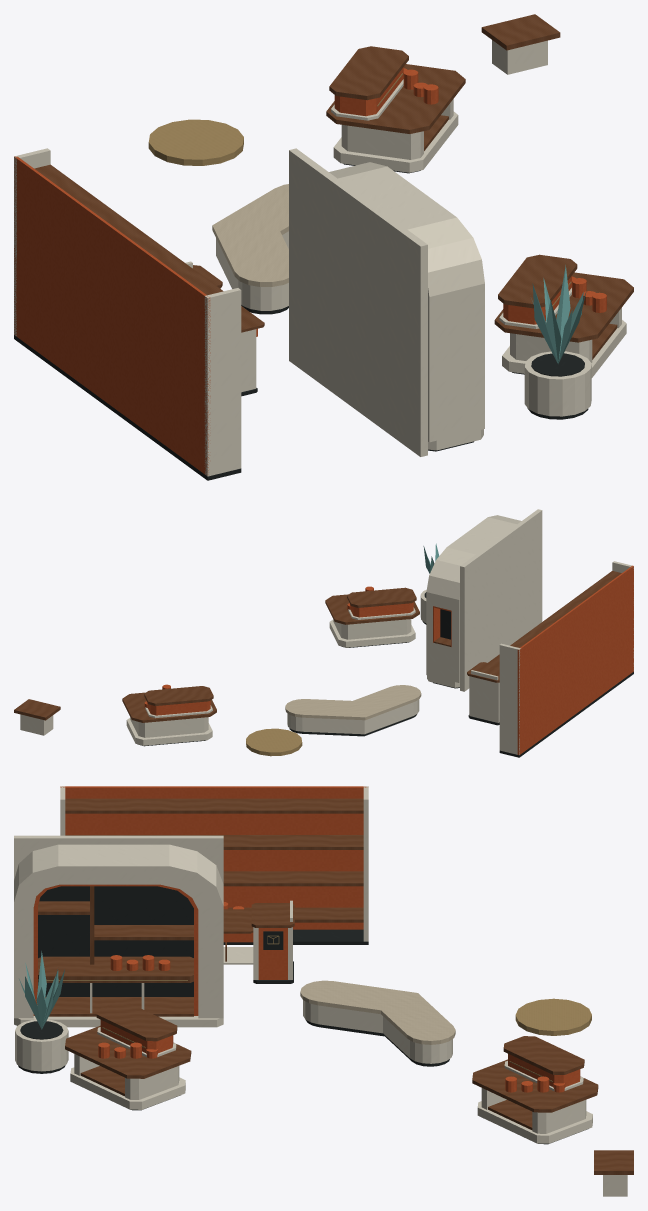
File: SHOP_D09_S72_A262__fitout.glb
3 views of the same model, one above another, from view 1: azimuth 30°, elevation 25°; view 2: azimuth 150°, elevation 25°; view 3: azimuth 270°, elevation 25° (orthographic). The views are drawn at different scales.
Parts seen in each view (by area): view 1: SHOP_D09_S72_A262__fitout__ivory_enamel, SHOP_D09_S72_A262__fitout__retail_terracotta_enamel, SHOP_D09_S72_A262__fitout__warm_walnut, SHOP_D09_S72_A262__fitout__oatmeal_weave, SHOP_D09_S72_A262__fitout__champagne_metal, SHOP_D09_S72_A262__fitout__dark_rubber, SHOP_D09_S72_A262__fitout__quiet_teal; view 2: SHOP_D09_S72_A262__fitout__ivory_enamel, SHOP_D09_S72_A262__fitout__retail_terracotta_enamel, SHOP_D09_S72_A262__fitout__warm_walnut, SHOP_D09_S72_A262__fitout__oatmeal_weave, SHOP_D09_S72_A262__fitout__dark_rubber, SHOP_D09_S72_A262__fitout__champagne_metal; view 3: SHOP_D09_S72_A262__fitout__warm_walnut, SHOP_D09_S72_A262__fitout__ivory_enamel, SHOP_D09_S72_A262__fitout__retail_terracotta_enamel, SHOP_D09_S72_A262__fitout__dark_rubber, SHOP_D09_S72_A262__fitout__oatmeal_weave, SHOP_D09_S72_A262__fitout__champagne_metal, SHOP_D09_S72_A262__fitout__quiet_teal.
Part boxes in pixels (bbox=[...]): SHOP_D09_S72_A262__fitout__ivory_enamel: bbox=[14, 40, 626, 476]; SHOP_D09_S72_A262__fitout__retail_terracotta_enamel: bbox=[14, 67, 606, 475]; SHOP_D09_S72_A262__fitout__warm_walnut: bbox=[34, 14, 633, 359]; SHOP_D09_S72_A262__fitout__oatmeal_weave: bbox=[212, 184, 288, 286]; SHOP_D09_S72_A262__fitout__champagne_metal: bbox=[148, 73, 571, 306]; SHOP_D09_S72_A262__fitout__dark_rubber: bbox=[14, 163, 588, 480]; SHOP_D09_S72_A262__fitout__quiet_teal: bbox=[531, 265, 586, 363]; SHOP_D09_S72_A262__fitout__ivory_enamel: bbox=[20, 509, 633, 754]; SHOP_D09_S72_A262__fitout__retail_terracotta_enamel: bbox=[144, 565, 633, 754]; SHOP_D09_S72_A262__fitout__warm_walnut: bbox=[14, 571, 621, 722]; SHOP_D09_S72_A262__fitout__oatmeal_weave: bbox=[285, 685, 421, 720]; SHOP_D09_S72_A262__fitout__dark_rubber: bbox=[140, 592, 633, 757]; SHOP_D09_S72_A262__fitout__champagne_metal: bbox=[246, 728, 302, 756]; SHOP_D09_S72_A262__fitout__warm_walnut: bbox=[38, 798, 633, 1174]; SHOP_D09_S72_A262__fitout__ivory_enamel: bbox=[14, 786, 627, 1196]; SHOP_D09_S72_A262__fitout__retail_terracotta_enamel: bbox=[33, 786, 580, 1092]; SHOP_D09_S72_A262__fitout__dark_rubber: bbox=[18, 886, 587, 1144]; SHOP_D09_S72_A262__fitout__oatmeal_weave: bbox=[300, 980, 455, 1044]; SHOP_D09_S72_A262__fitout__champagne_metal: bbox=[46, 935, 591, 1081]; SHOP_D09_S72_A262__fitout__quiet_teal: bbox=[19, 951, 64, 1029].
Bounding box in the file's own units: 10.25 × 3 × 10.05.
Materials: 7 (6 with a texture image).
